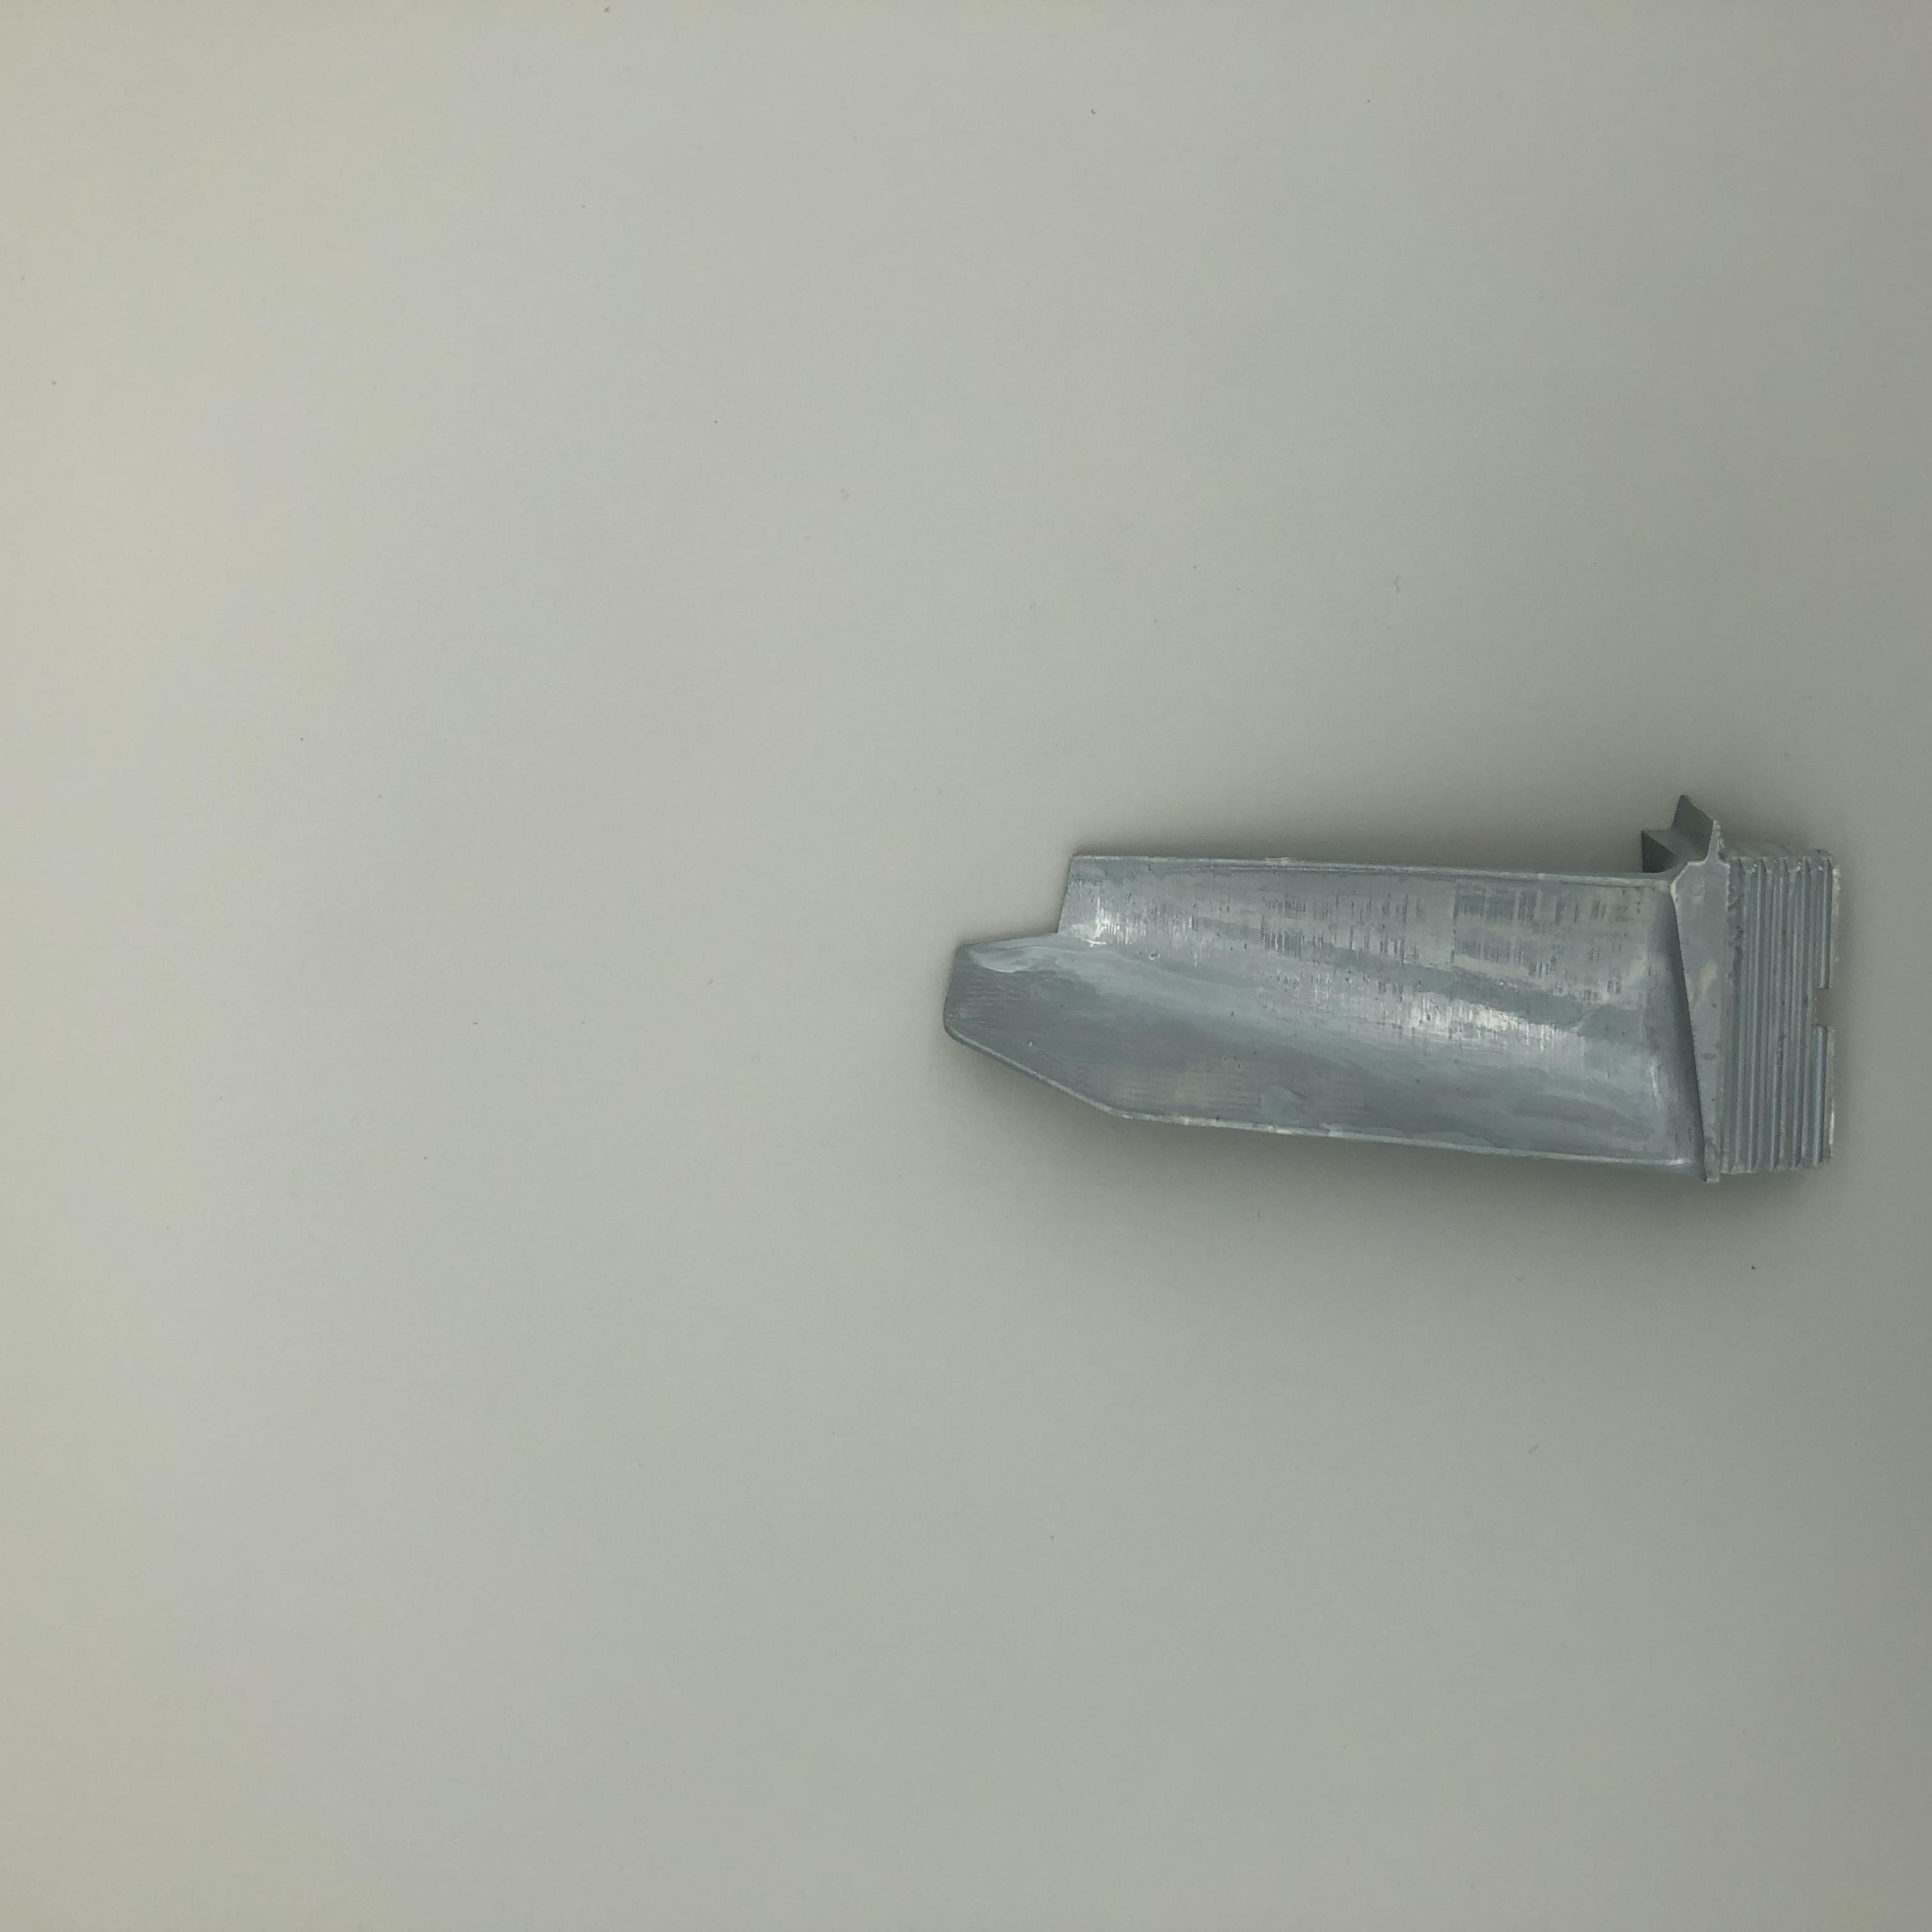fracture: (952, 849, 1120, 975)
